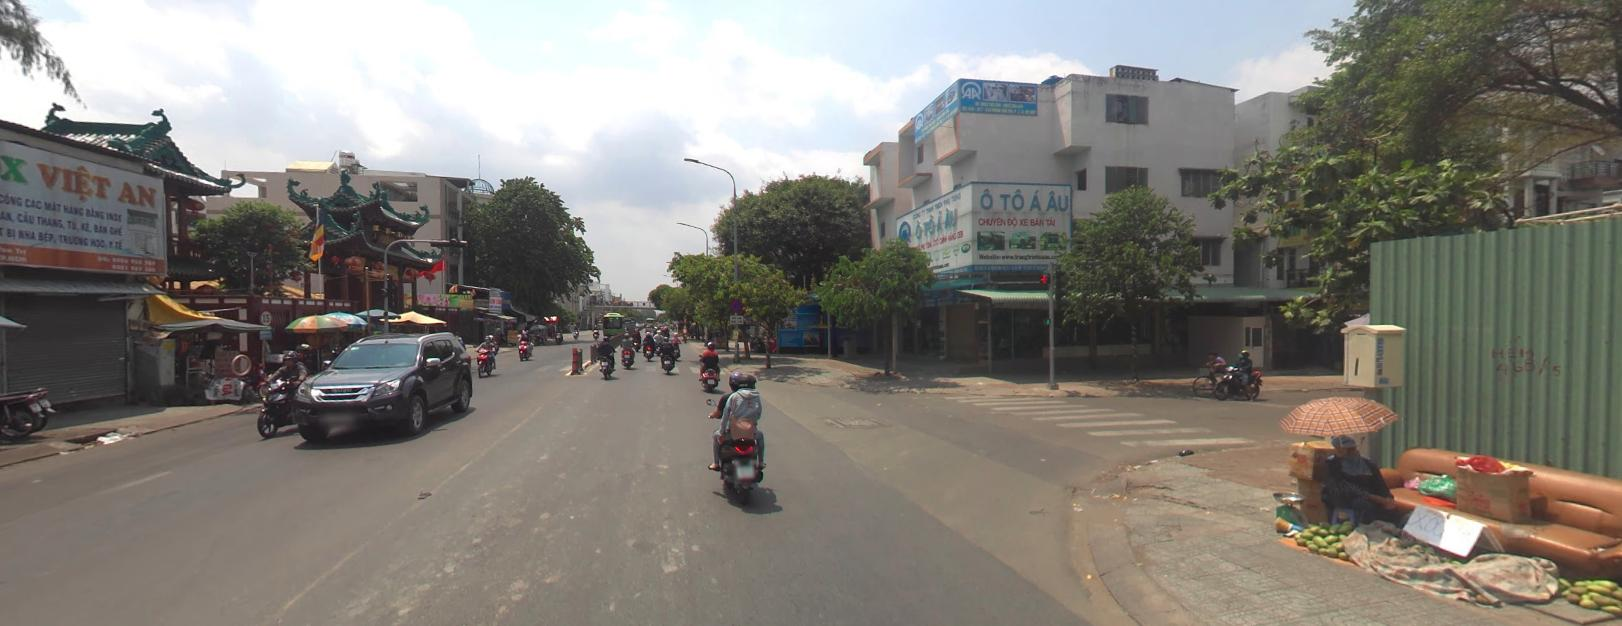Cam dung va do: (731, 297, 744, 311)
